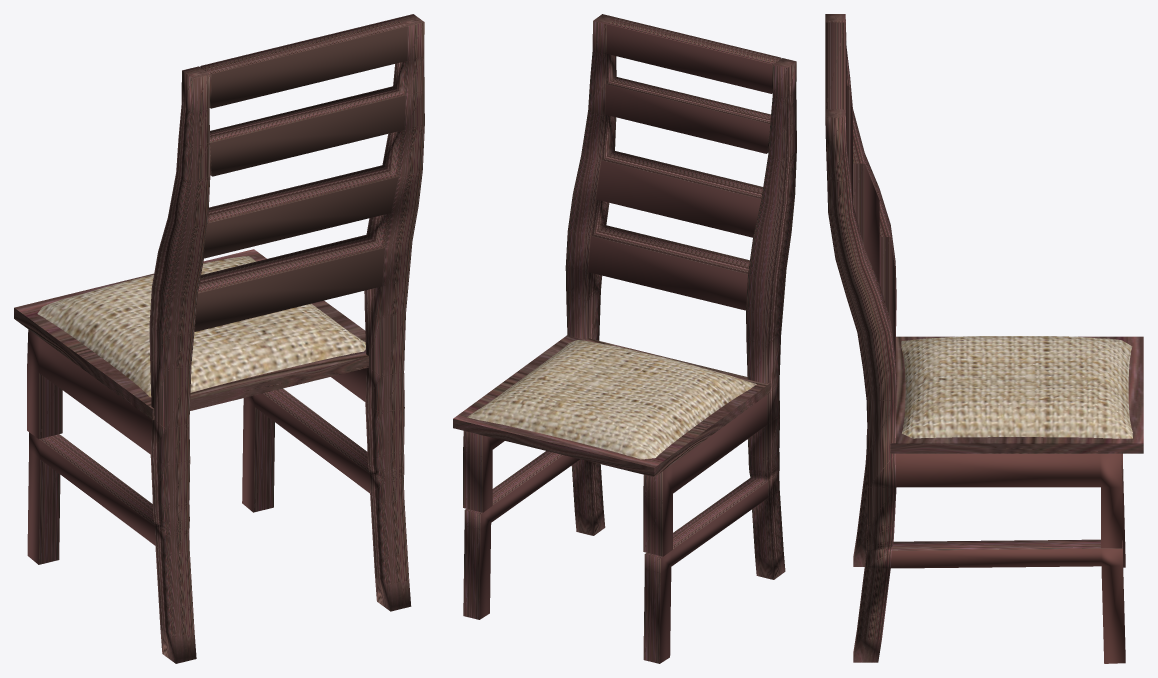
Rendered from Chair.fbx.
3 views of the same model, side by side, from view 1: azimuth 30°, elevation 25°; view 2: azimuth 150°, elevation 25°; view 3: azimuth 270°, elevation 25° (orthographic). The views are drawn at different scales.
Parts seen in each view (by area): view 1: rightside, leftside, seat.001, seat; view 2: rightside, leftside, seat.001, seat; view 3: rightside, seat.001, seat, leftside.
Part boxes in pixels (x1=…): rightside: x1=194, y1=14, x2=424, y2=611; leftside: x1=27, y1=66, x2=210, y2=663; seat.001: x1=37, y1=256, x2=365, y2=397; seat: x1=14, y1=249, x2=368, y2=419; rightside: x1=463, y1=14, x2=781, y2=619; leftside: x1=643, y1=58, x2=796, y2=663; seat.001: x1=467, y1=340, x2=756, y2=459; seat: x1=453, y1=335, x2=770, y2=477; rightside: x1=825, y1=22, x2=1125, y2=663; seat.001: x1=901, y1=336, x2=1132, y2=438; seat: x1=890, y1=336, x2=1143, y2=453; leftside: x1=825, y1=14, x2=1125, y2=567.
Size of the model in its own units: 513 by 1209 by 639.
2 materials, 2 textured.
